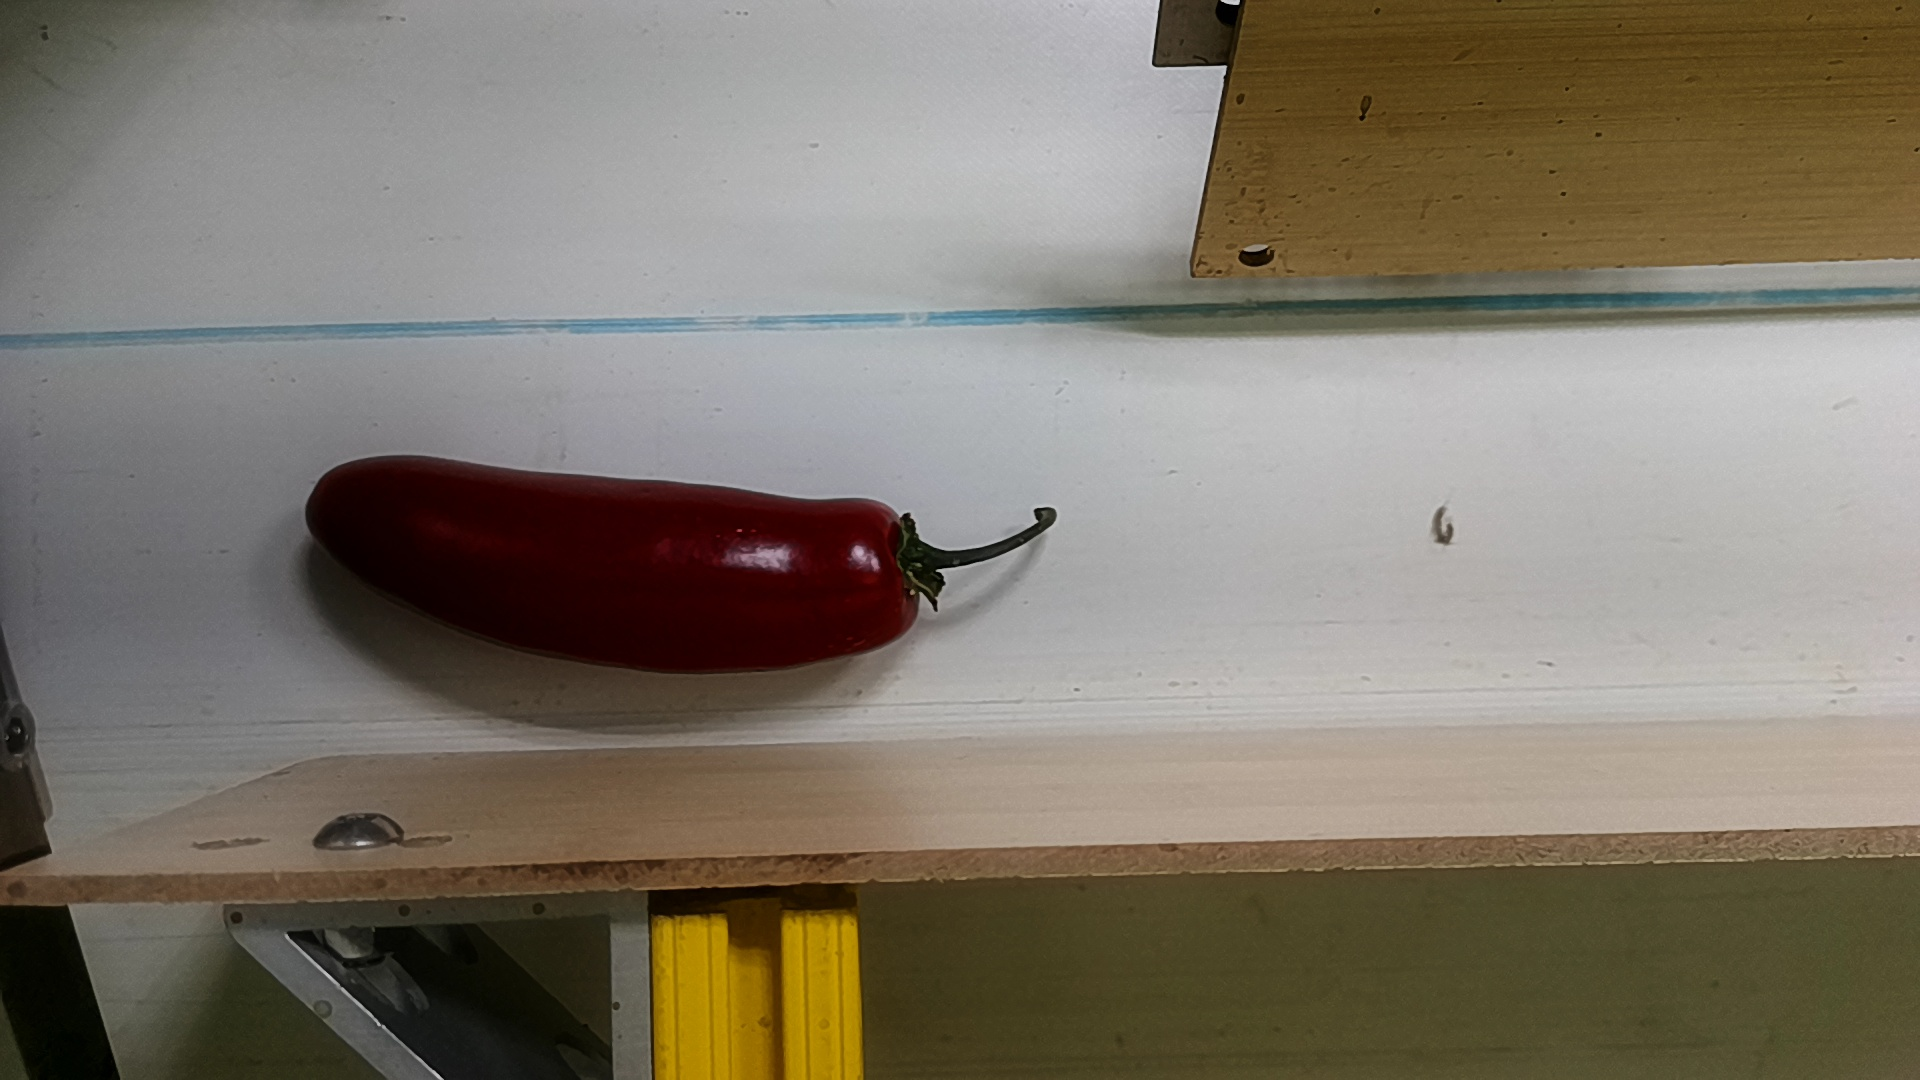Cut Point: (843, 489, 948, 655)
